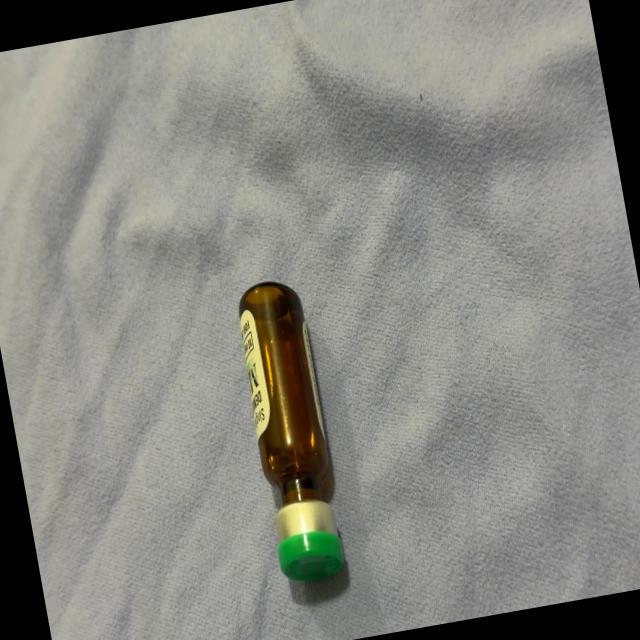midazolm: (232, 282, 349, 580)
